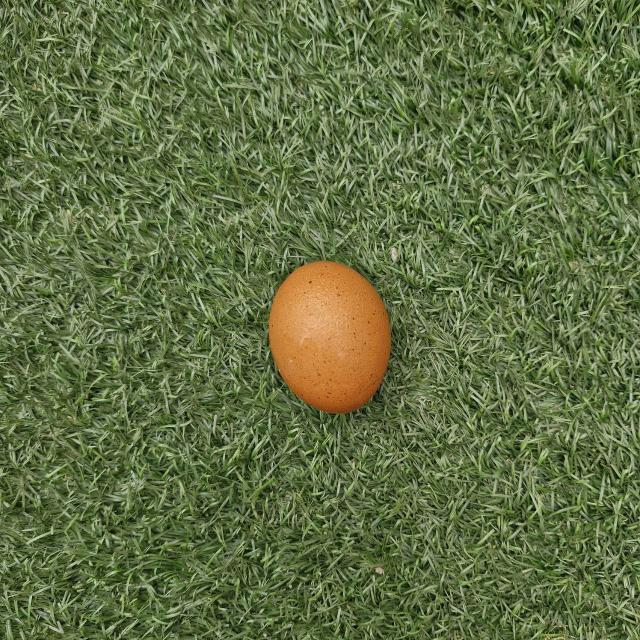food_waste: (252, 254, 398, 424)
